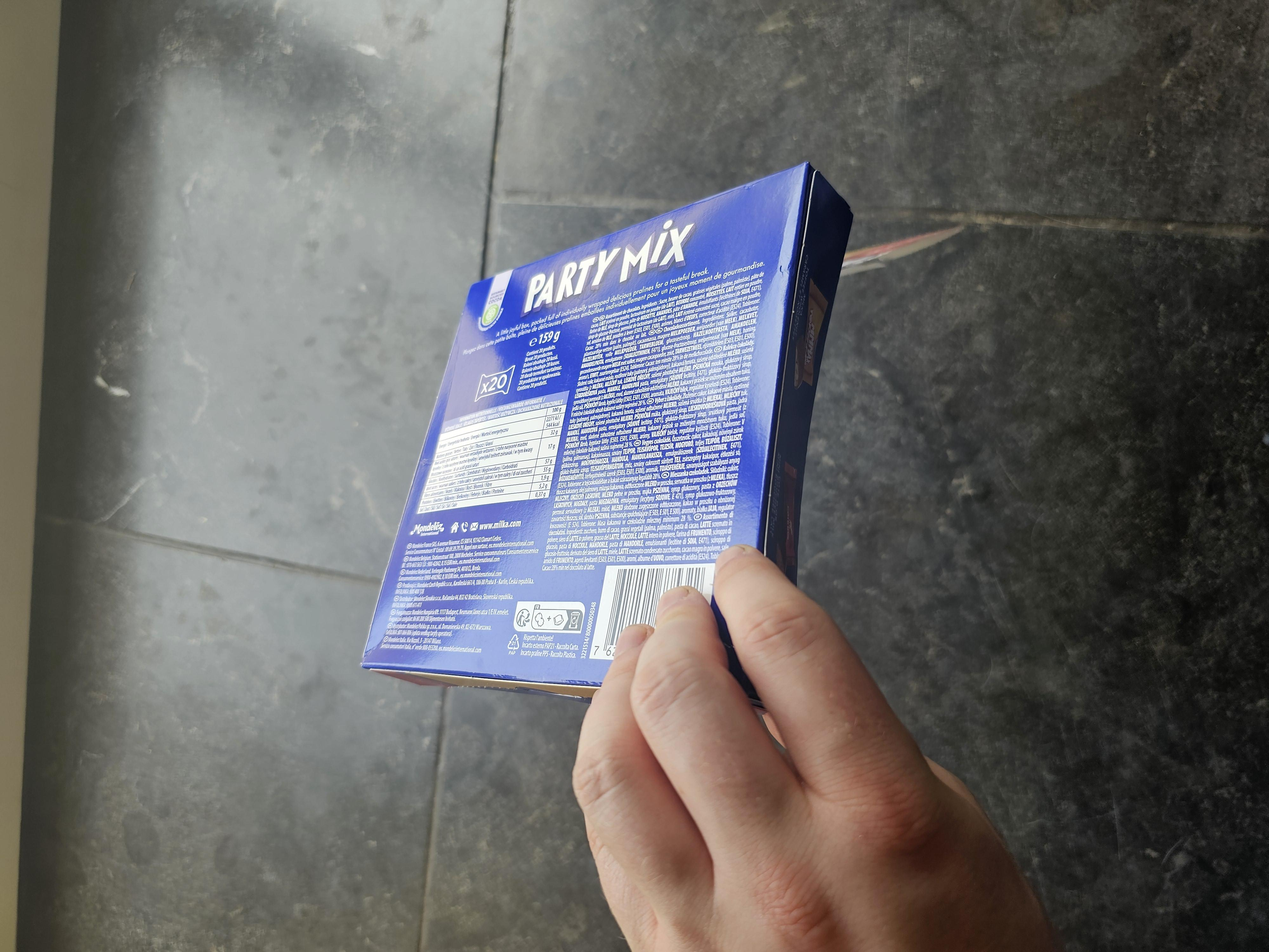Cardboard: (319, 262, 1065, 650)
